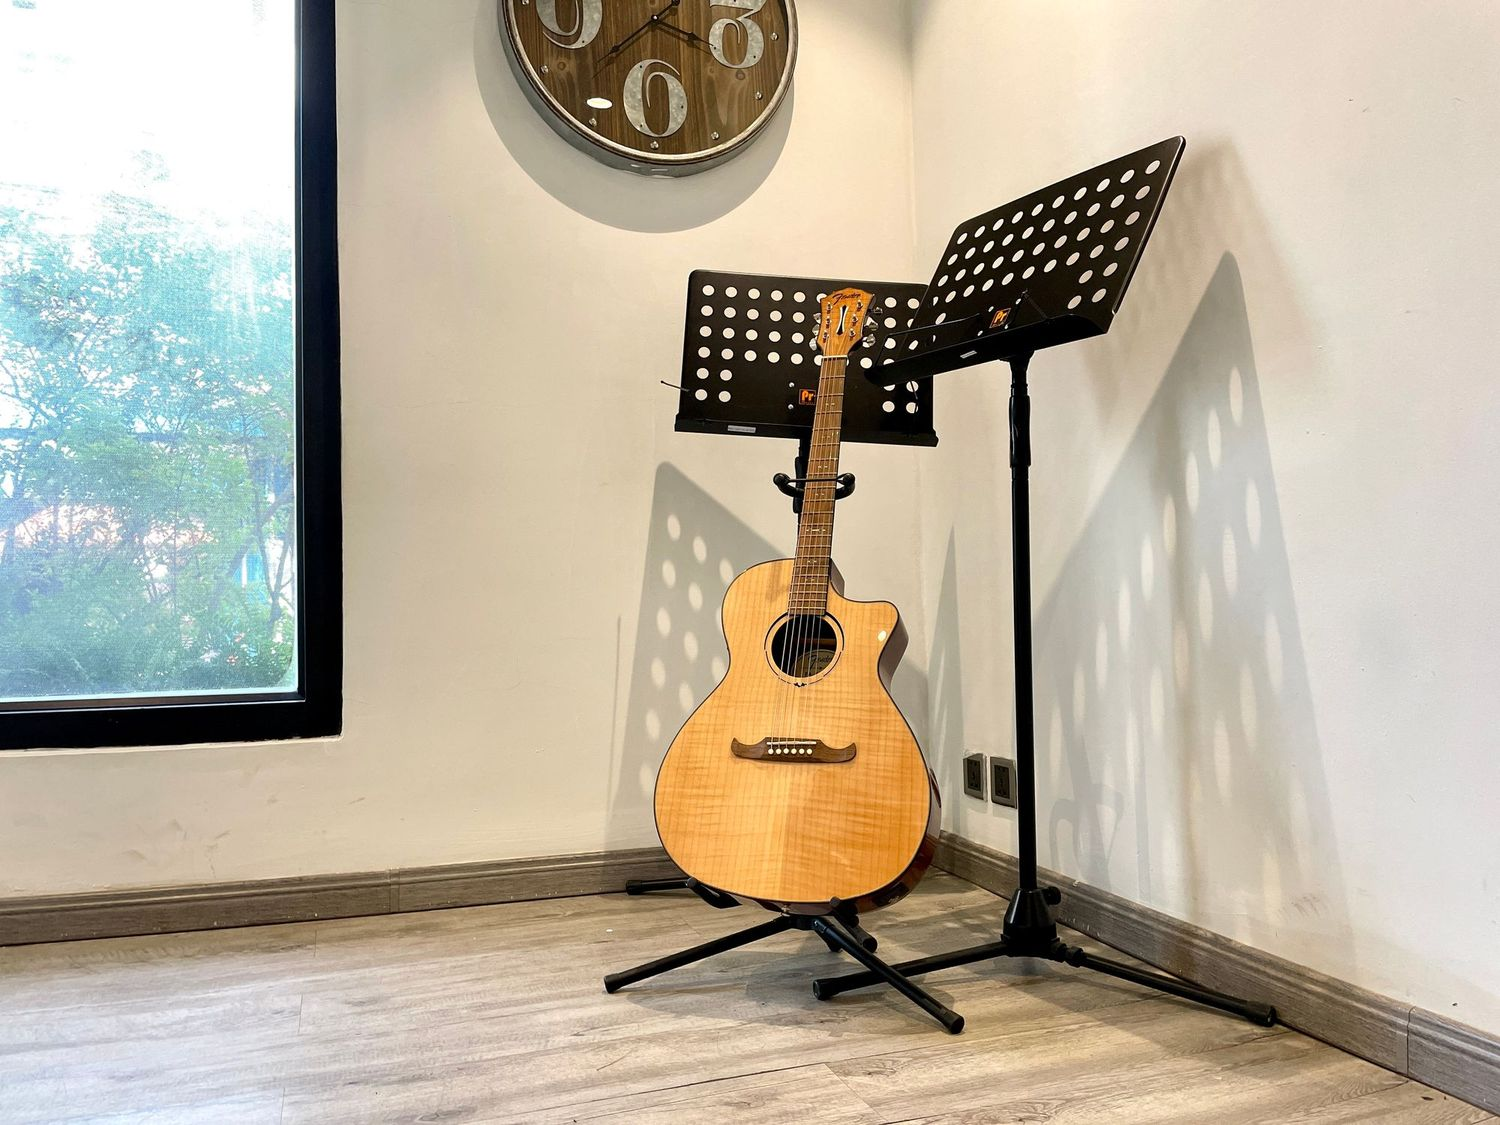guitar: (644, 136, 1193, 989), (647, 275, 945, 938)
